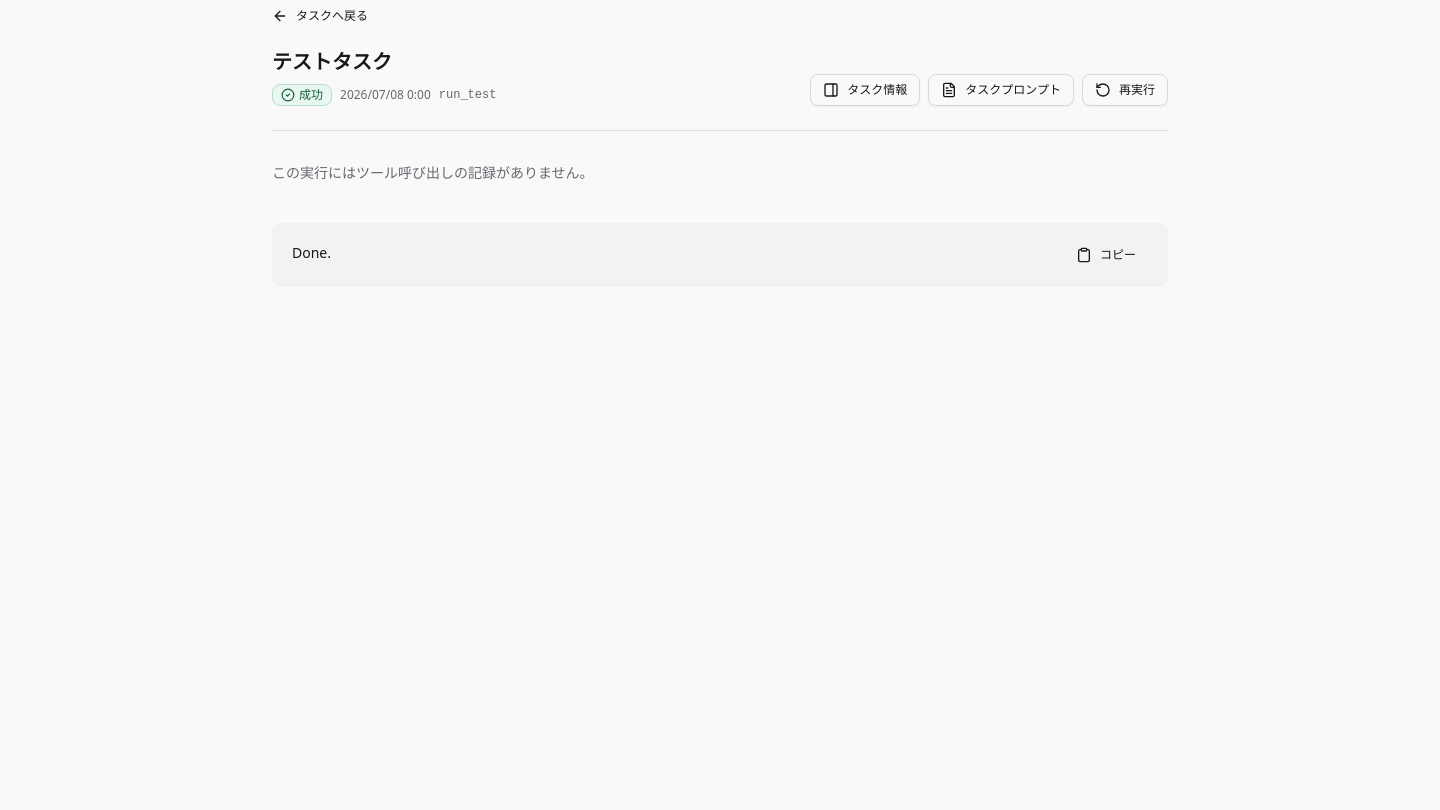
RunDetail › opens the task prompt in a dialog and task settings in a right sheet
What coordinates should you click on to do the following:
click the button "タスクプロンプト"
I would click on:
 (1001, 90)
Its box is [928,74,1074,106].
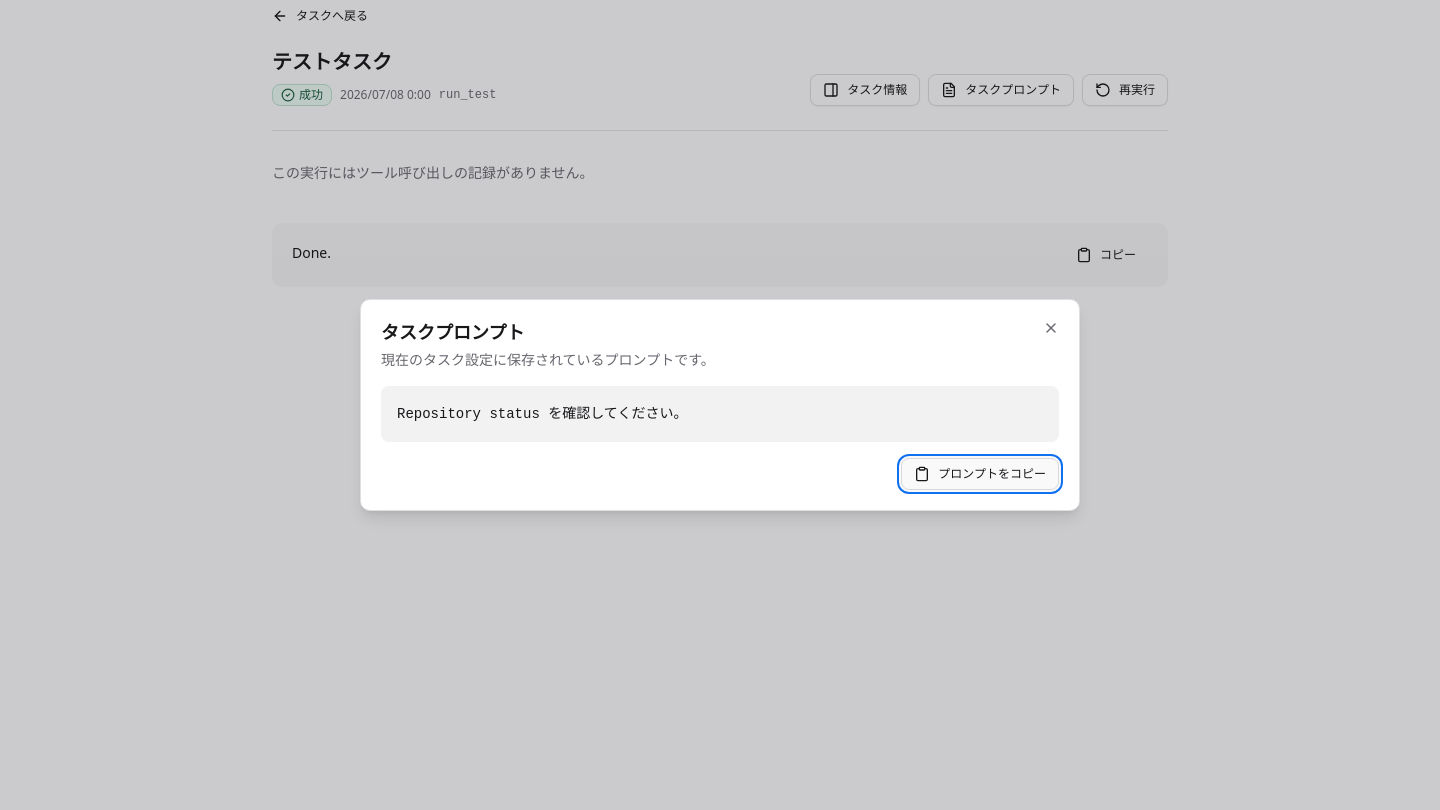
Now the text "Repository status を確認してください。" is shown, box [397,406,687,422]
Now the button "プロンプトをコピー" is shown, box [901,458,1059,490]
What coordinates should you click on to do the following:
click the button named "閉じる"
I would click on:
 (1051, 328)
Its box is [1039,316,1063,340].
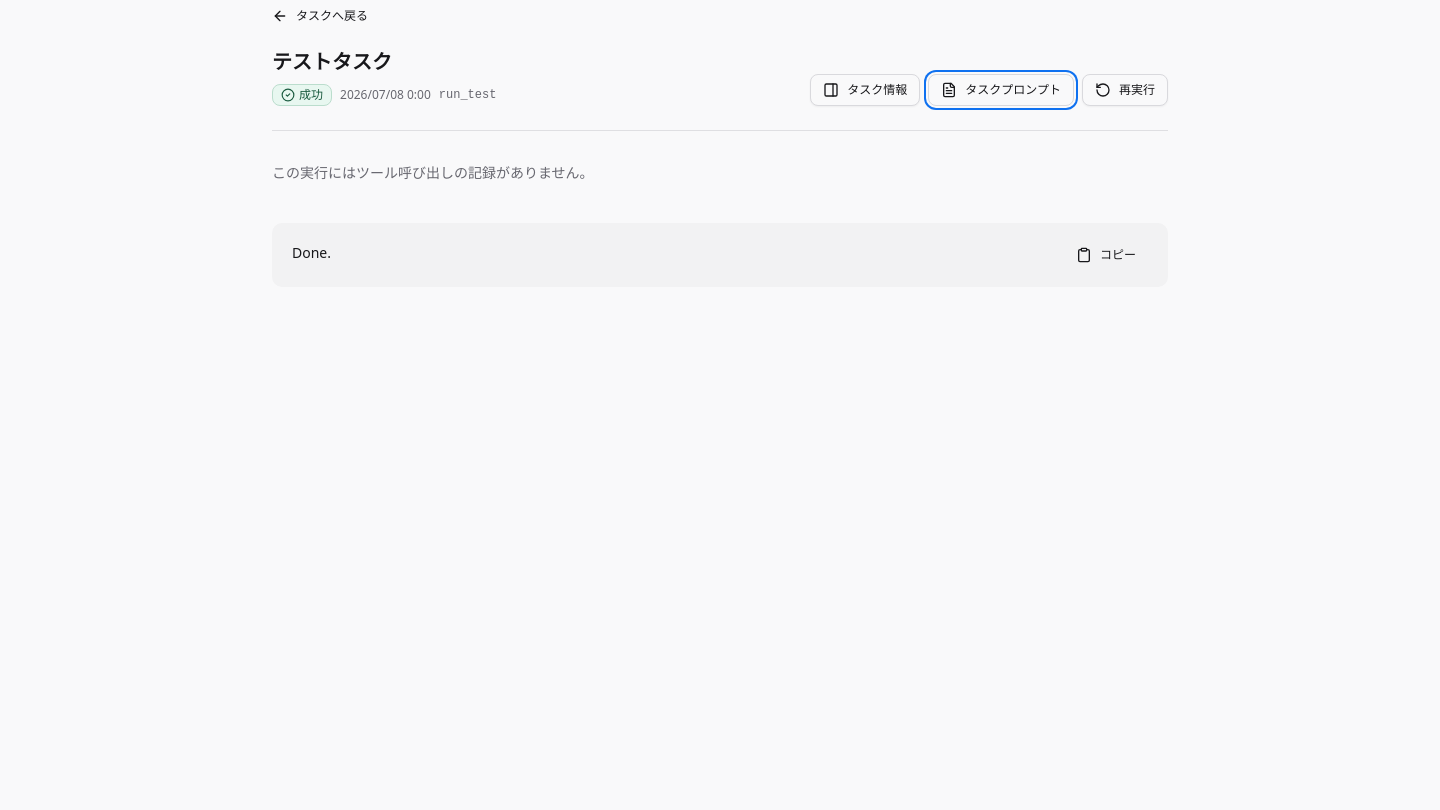
What coordinates should you click on to do the following:
click the button "タスク情報"
I would click on:
 (865, 90)
Its box is [810,74,920,106].
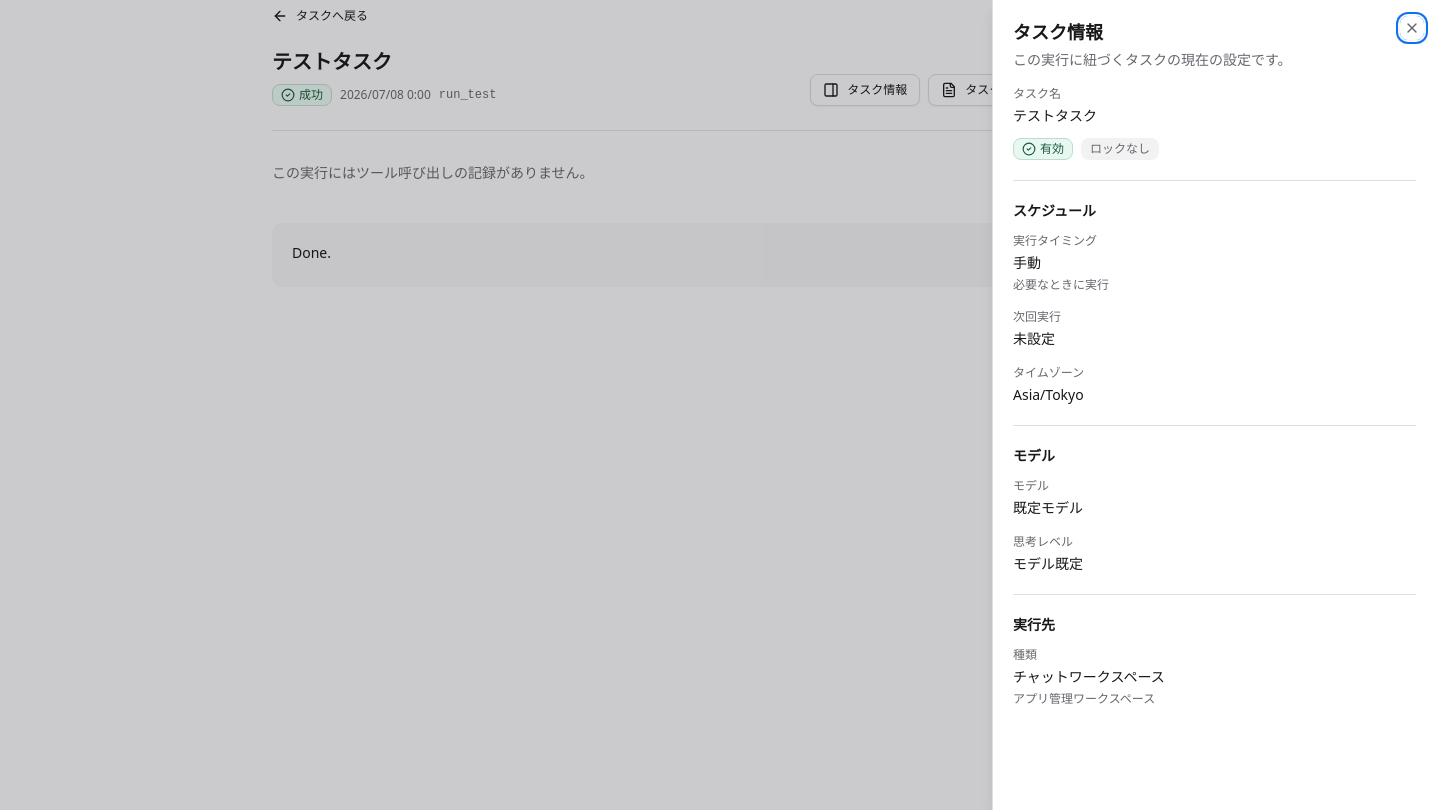
Now the text "テストタスク" is shown, box [1013,106,1097,125]
Now the text "手動" is shown, box [1013,253,1041,272]
Now the text "Asia/Tokyo" is shown, box [1013,385,1084,404]
